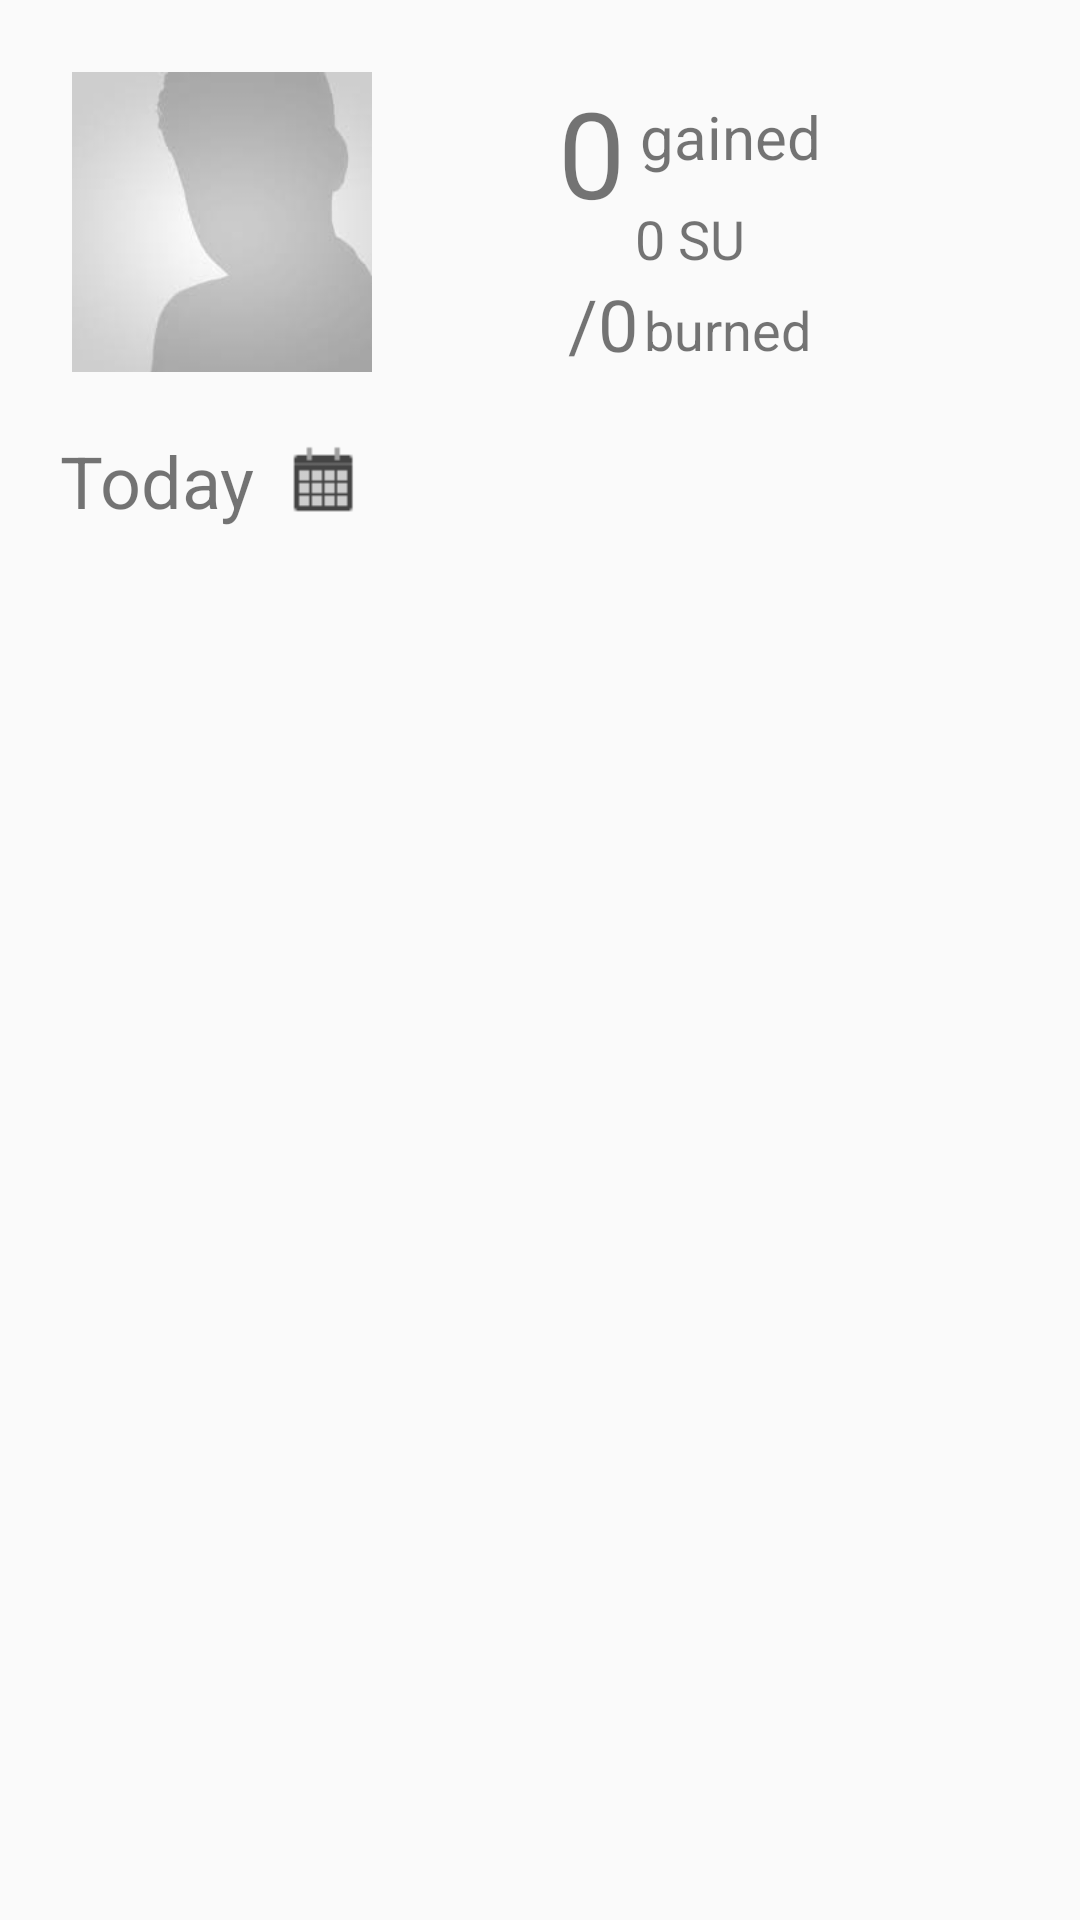

Icons on this 1080x1920 Android screen, each with the point to tap as (x=x, y=y):
plan: (x=323, y=479)
profile picture: (x=222, y=222)
